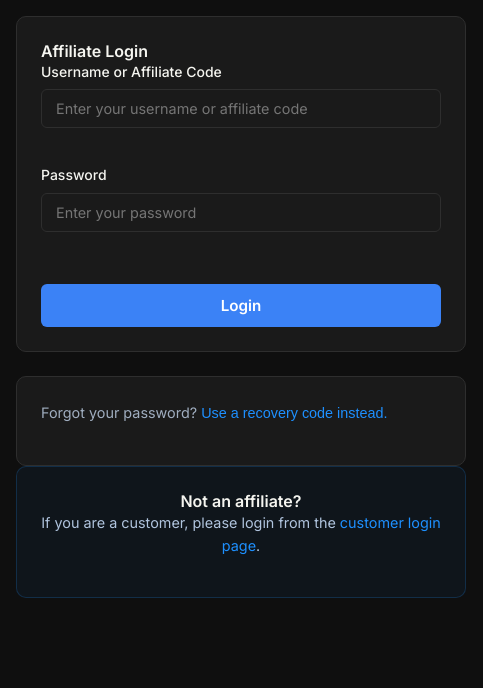
Test case: affiliate.jsx — Affiliate Login Page › login form › shows error when username is empty
Click the button "Login" at [241, 305], box [41,284,441,327]
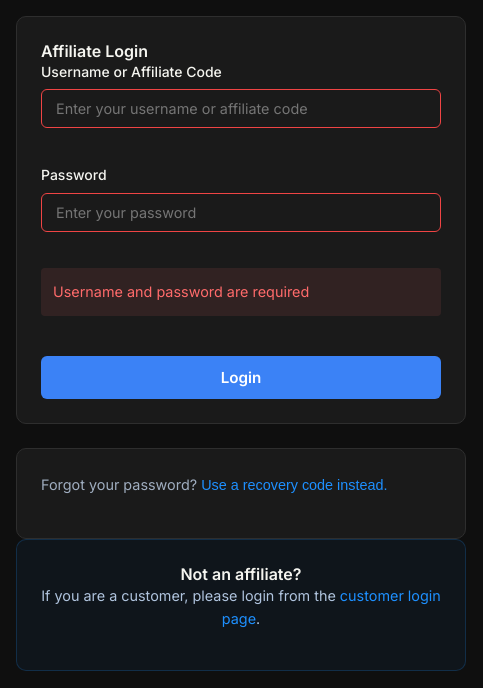
Expected: the text "Username and password are required" is shown, [41,268,441,316]
